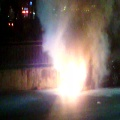fire: (54, 51, 86, 98)
